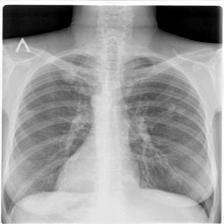tuberculosis: (3, 43, 215, 224)
